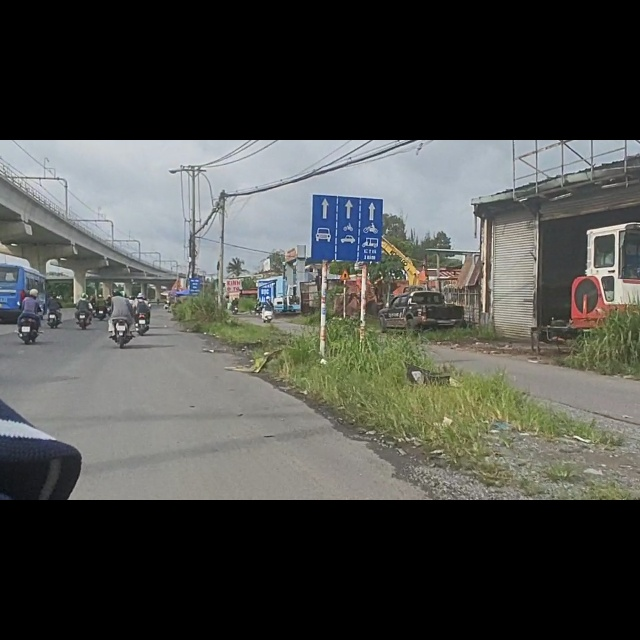bien_nguy_hiem: (310, 94, 384, 218), (339, 230, 353, 250)
